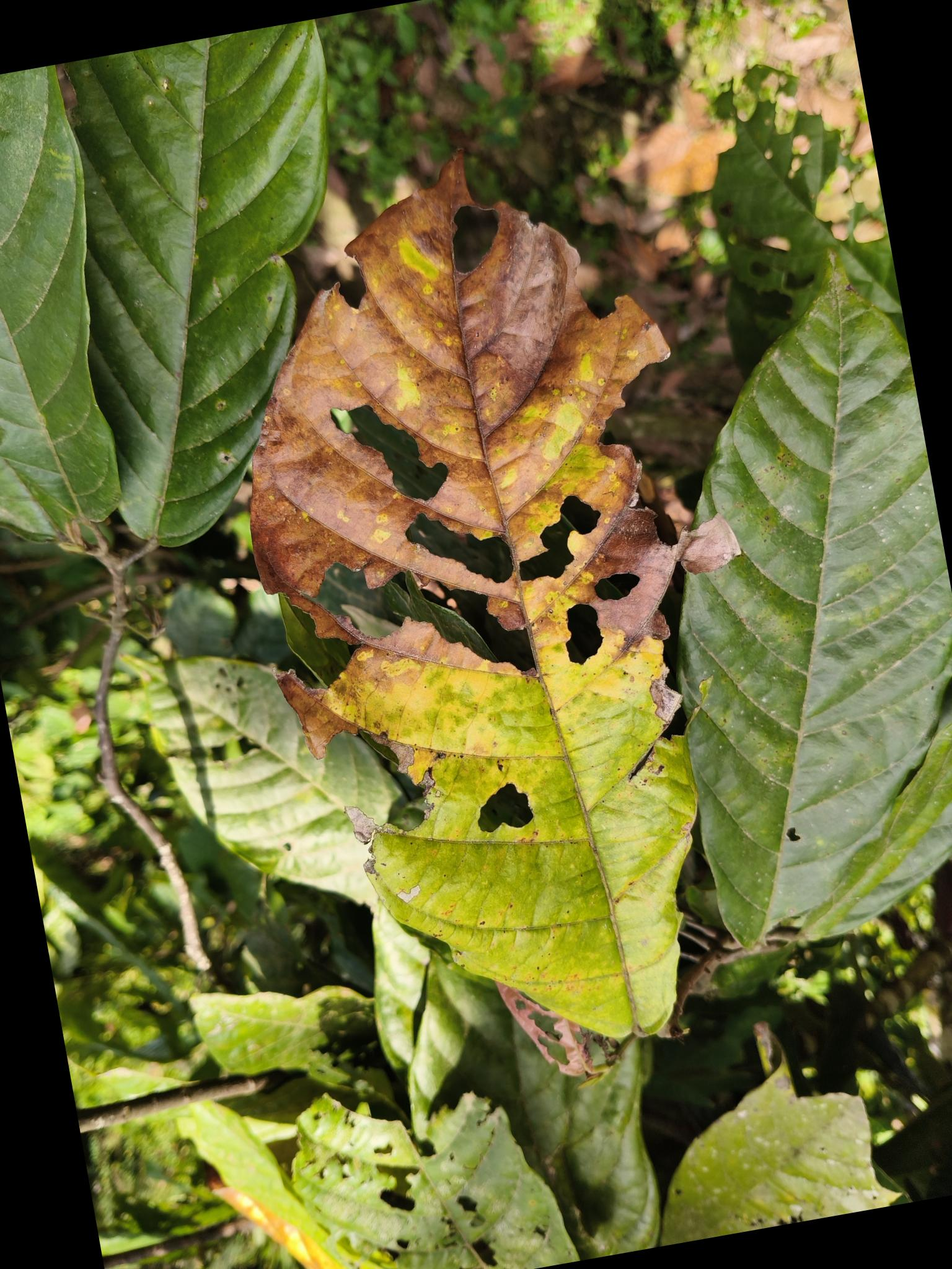Fosforo: (248, 171, 681, 1039)
